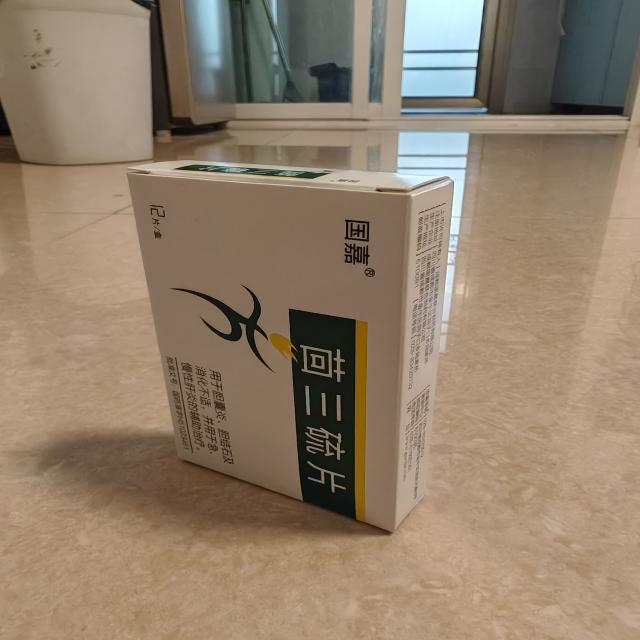box: (120, 151, 459, 542)
